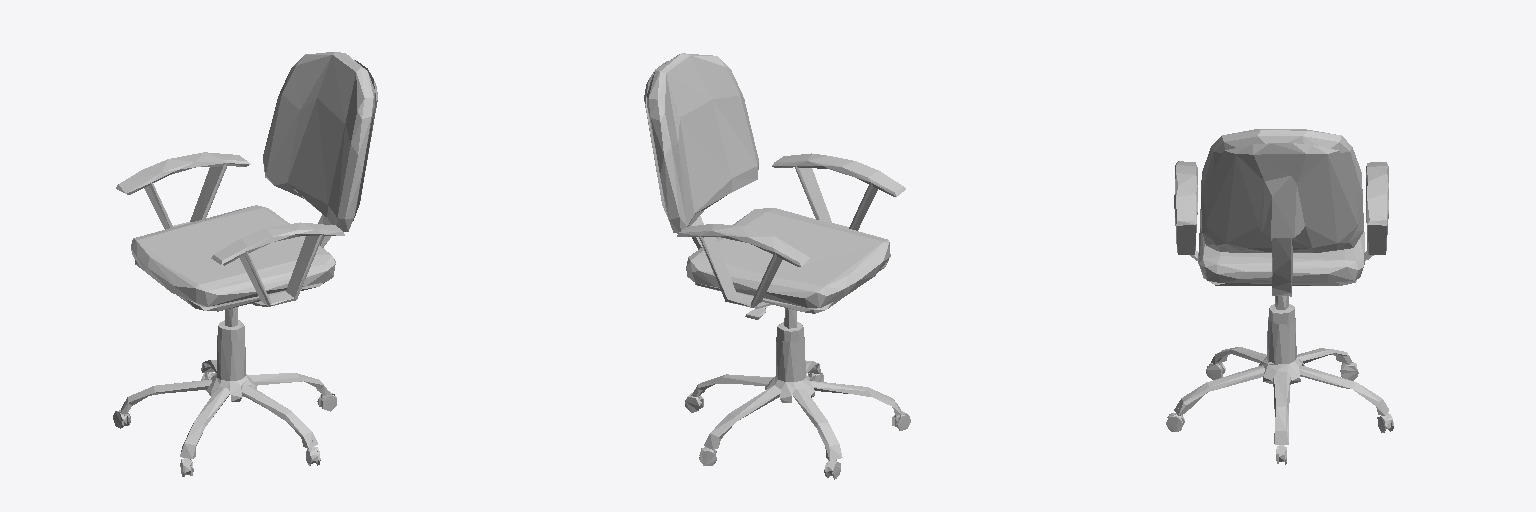
File: cadeira1.obj
3 views of the same model, side by side, from view 1: azimuth 30°, elevation 25°; view 2: azimuth 150°, elevation 25°; view 3: azimuth 270°, elevation 25° (orthographic).
Visible parts, largest first — view 1: Chair_Chair.007; view 2: Chair_Chair.007; view 3: Chair_Chair.007.
Part boxes in pixels (left/top/right/bottom): Chair_Chair.007: left=113, top=52, right=377, bottom=476; Chair_Chair.007: left=644, top=53, right=910, bottom=479; Chair_Chair.007: left=1166, top=129, right=1393, bottom=464.
Bounding box in the file's own units: 4.93 × 7.52 × 4.52.